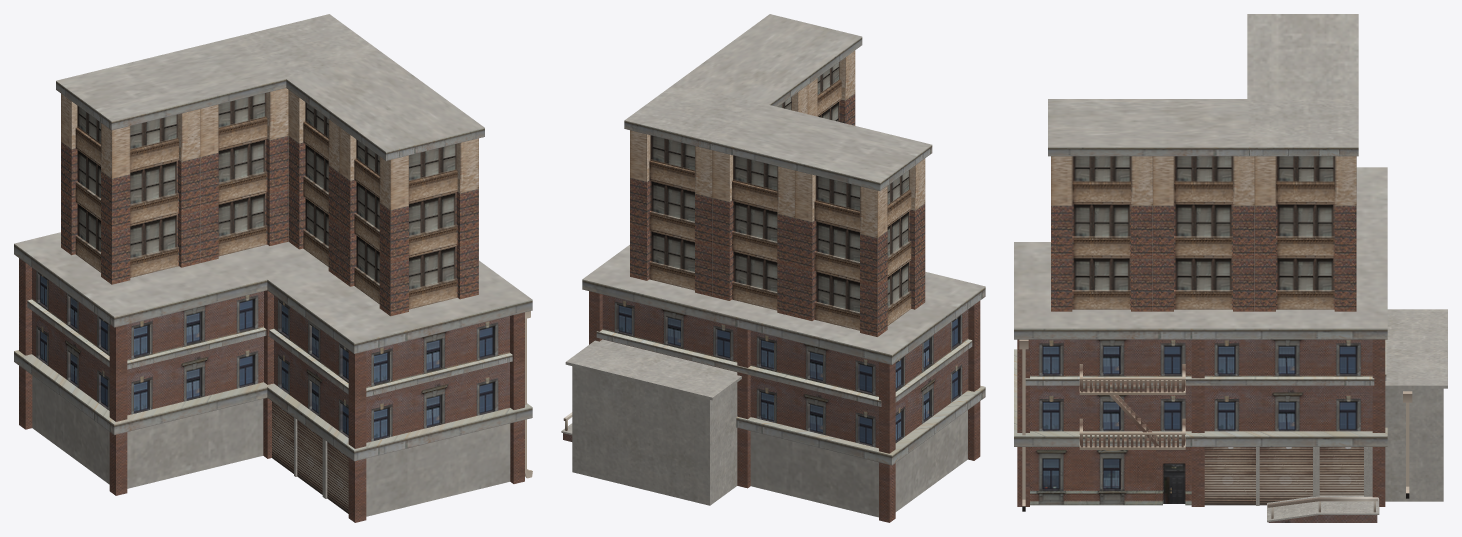
The picture shows the model from 3 angles, left to right: view 1: azimuth 30°, elevation 25°; view 2: azimuth 150°, elevation 25°; view 3: azimuth 270°, elevation 25°; orthographic projection. The views are drawn at different scales.
Visible parts, largest first — view 1: Atlas.002_26; view 2: Atlas.002_26; view 3: Atlas.002_26, Atlas.001_27, Plane_3, Plane.002_1.
Boxes of the visible parts, x1=… form: Atlas.002_26: x1=14, y1=14, x2=532, y2=522; Atlas.002_26: x1=565, y1=14, x2=985, y2=522; Atlas.002_26: x1=1014, y1=14, x2=1447, y2=511; Atlas.001_27: x1=1267, y1=495, x2=1379, y2=522; Plane_3: x1=1079, y1=364, x2=1185, y2=394; Plane.002_1: x1=1079, y1=418, x2=1185, y2=449.
Bounding box in the file's own units: 1.52 × 1.42 × 1.6.
Materials: 1 (1 with a texture image).
